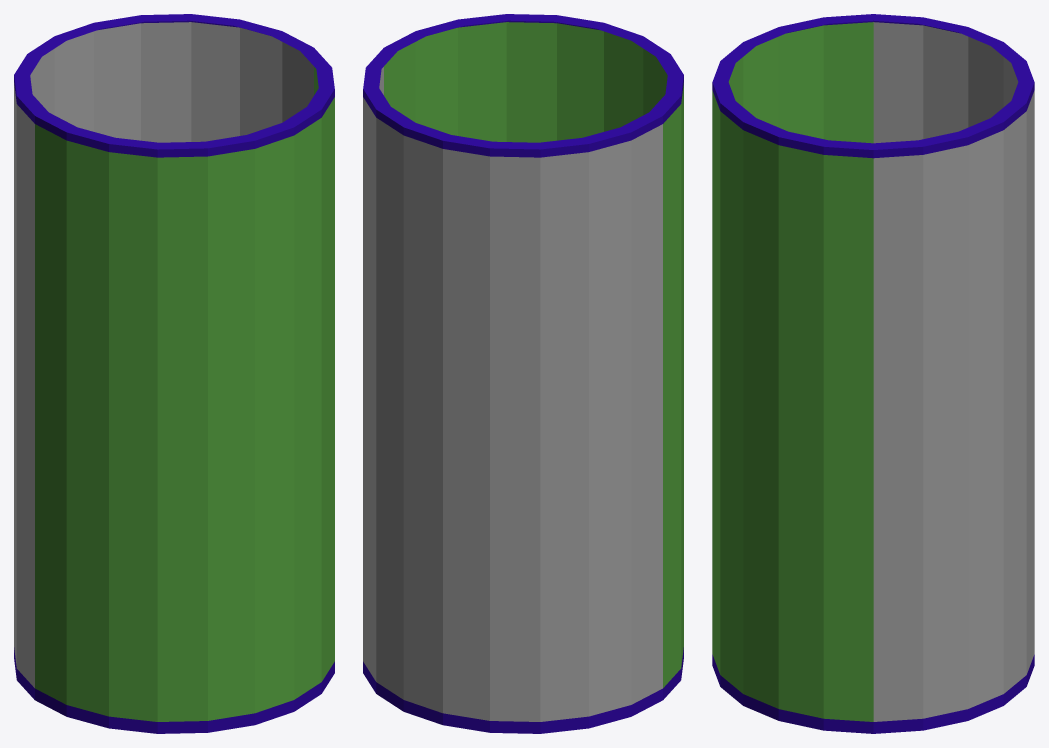
The model's file is pipe2.fbx.
3 views of the same model, side by side, from view 1: azimuth 30°, elevation 25°; view 2: azimuth 150°, elevation 25°; view 3: azimuth 270°, elevation 25° (orthographic).
Parts seen in each view (by area): view 1: pipe_mb:pPipe1; view 2: pipe_mb:pPipe1; view 3: pipe_mb:pPipe1.
Boxes of the visible parts, x1,y1,x2,y2 form: pipe_mb:pPipe1: [14, 14, 334, 733]; pipe_mb:pPipe1: [363, 14, 683, 733]; pipe_mb:pPipe1: [712, 14, 1034, 733].
Bounding box in the file's own units: 100 × 200 × 100.
